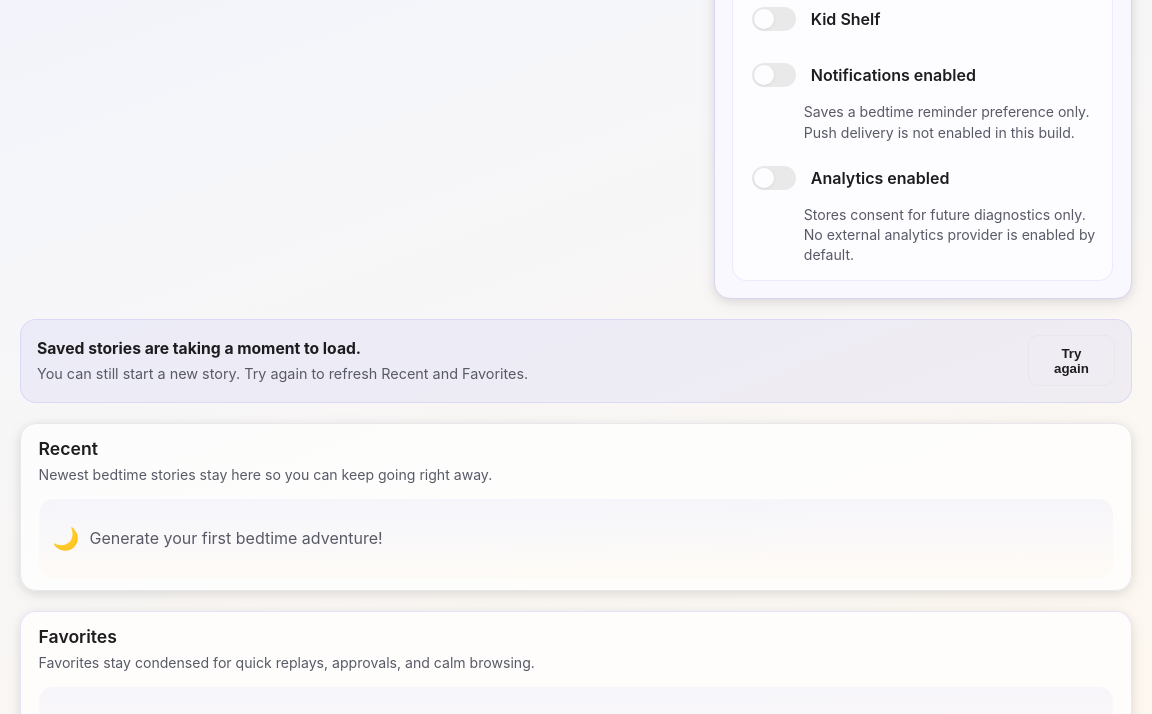
Test case: App › retries library loading from the sync banner
The image size is (1152, 714).
(page scrolled)
Expected: the element with test id "library-sync-banner" is shown, [20,319,1132,403]
Click the button "Try again" at (1071, 361), box [1028,335,1115,386]
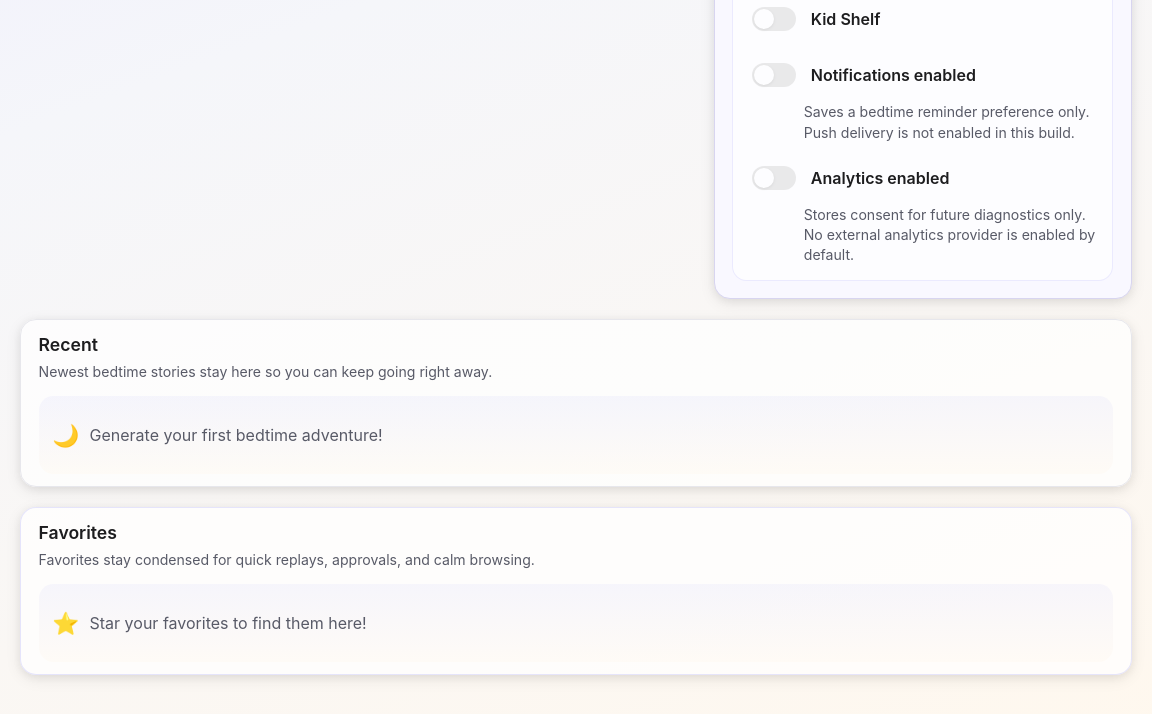
Now the element with test id "library-sync-banner" is gone
